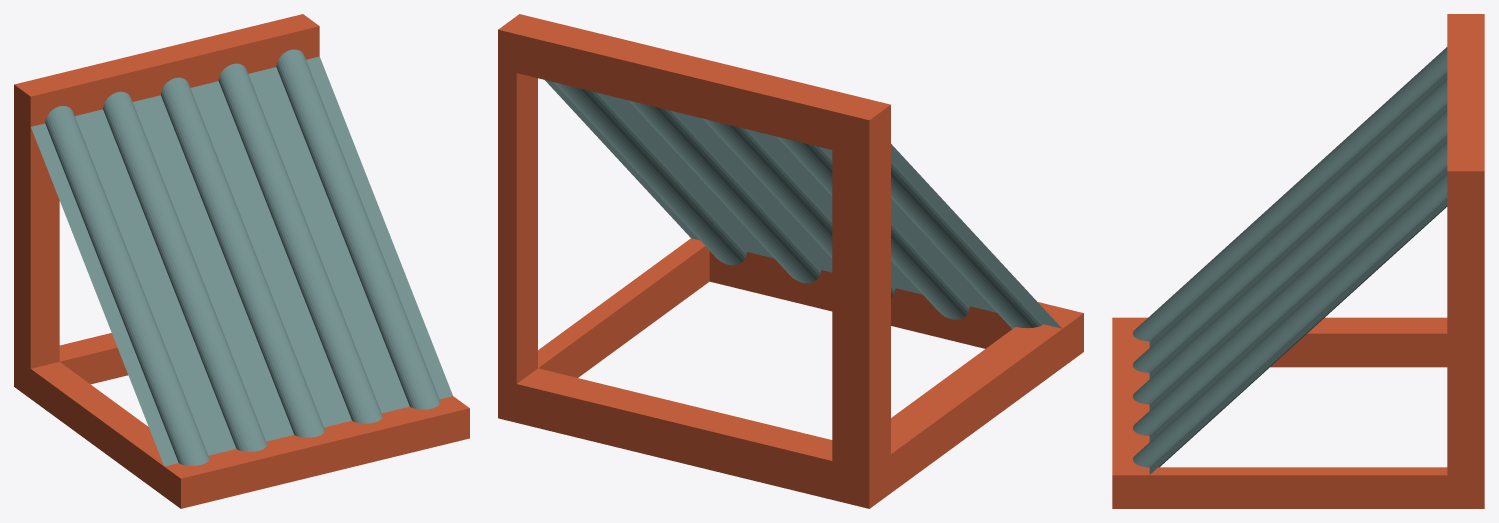
The model's file is Japanese roof left.fbx.
The picture shows the model from 3 angles, left to right: view 1: azimuth 30°, elevation 25°; view 2: azimuth 150°, elevation 25°; view 3: azimuth 270°, elevation 25°; orthographic projection. The views are drawn at different scales.
Parts seen in each view (by area): view 1: Cube, Plane, Plane.001, Cylinder.004, Cylinder.002, Cylinder.003, Cylinder, Cylinder.001; view 2: Cube, Plane.001, Plane, Cylinder.003, Cylinder.004, Cylinder, Cylinder.002, Cylinder.001; view 3: Cube, Cylinder.004, Cylinder.001, Cylinder.003, Cylinder, Cylinder.002, Plane, Plane.001.
Part boxes in pixels (x1,y1,x2,y2): Cube: (14,14,469,508); Plane: (87,185,452,466); Plane.001: (31,56,386,320); Cylinder.004: (276,49,440,409); Cylinder.002: (161,77,324,437); Cylinder.003: (218,63,382,423); Cylinder: (45,106,209,465); Cylinder.001: (103,91,266,451); Cube: (498,14,1083,508); Plane.001: (604,143,1061,328); Plane: (545,80,995,257); Cylinder.003: (628,100,820,283); Cylinder.004: (554,82,746,265); Cylinder: (891,159,1043,328); Cylinder.002: (702,118,895,297); Cylinder.001: (777,136,969,319); Cube: (1112,14,1484,508); Cylinder.004: (1133,173,1447,467); Cylinder.001: (1133,78,1447,372); Cylinder.003: (1133,141,1447,435); Cylinder: (1132,47,1447,341); Cylinder.002: (1132,110,1447,404); Plane: (1149,205,1324,474); Plane.001: (1274,72,1447,336).
Size of the model in its own units: 100 by 100 by 100.
